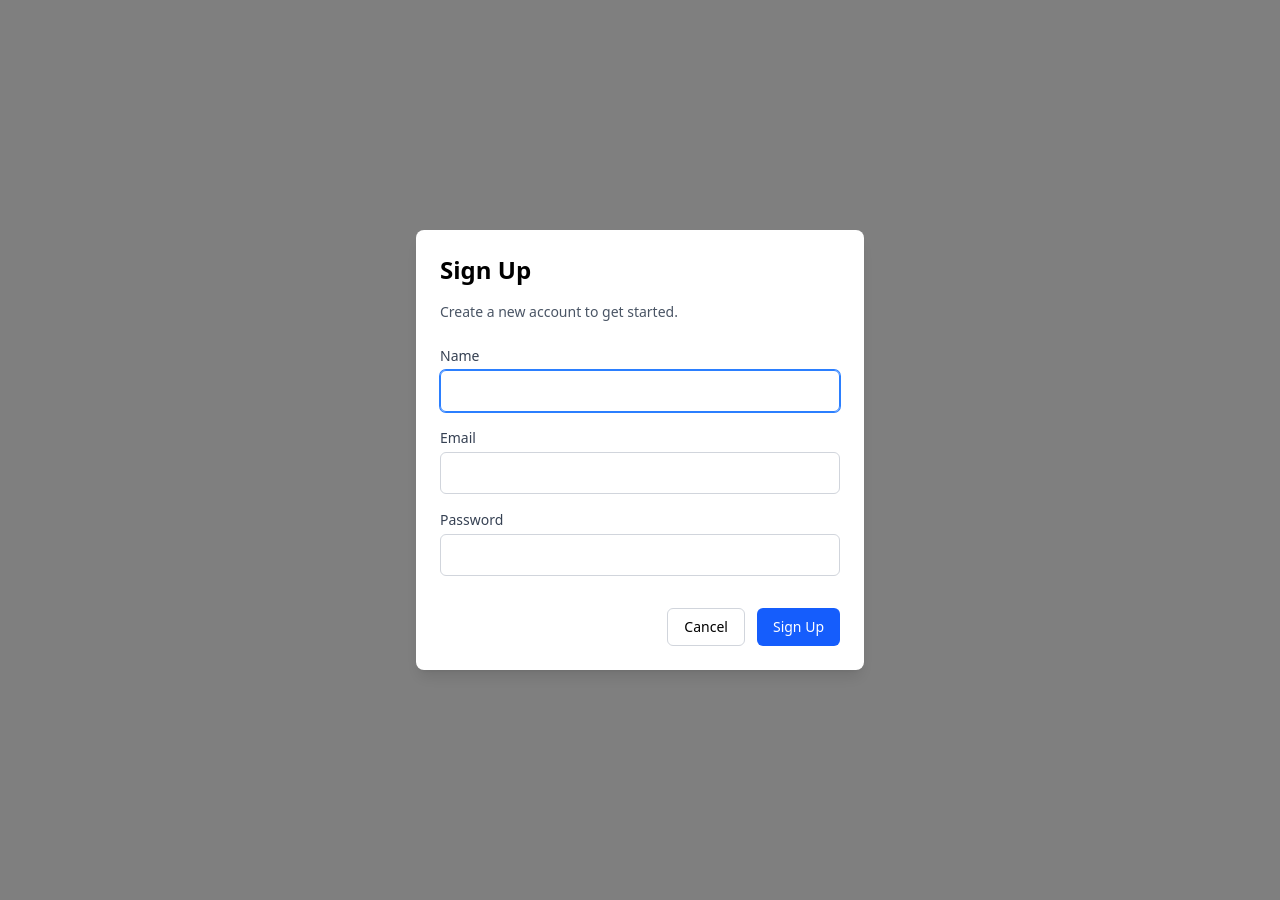
SignupDialog › validates empty name
This screenshot has width=1280, height=900.
Step 1. Click the button "Sign Up" → coordinates (798, 627), box x1=757 y1=608 x2=840 y2=646
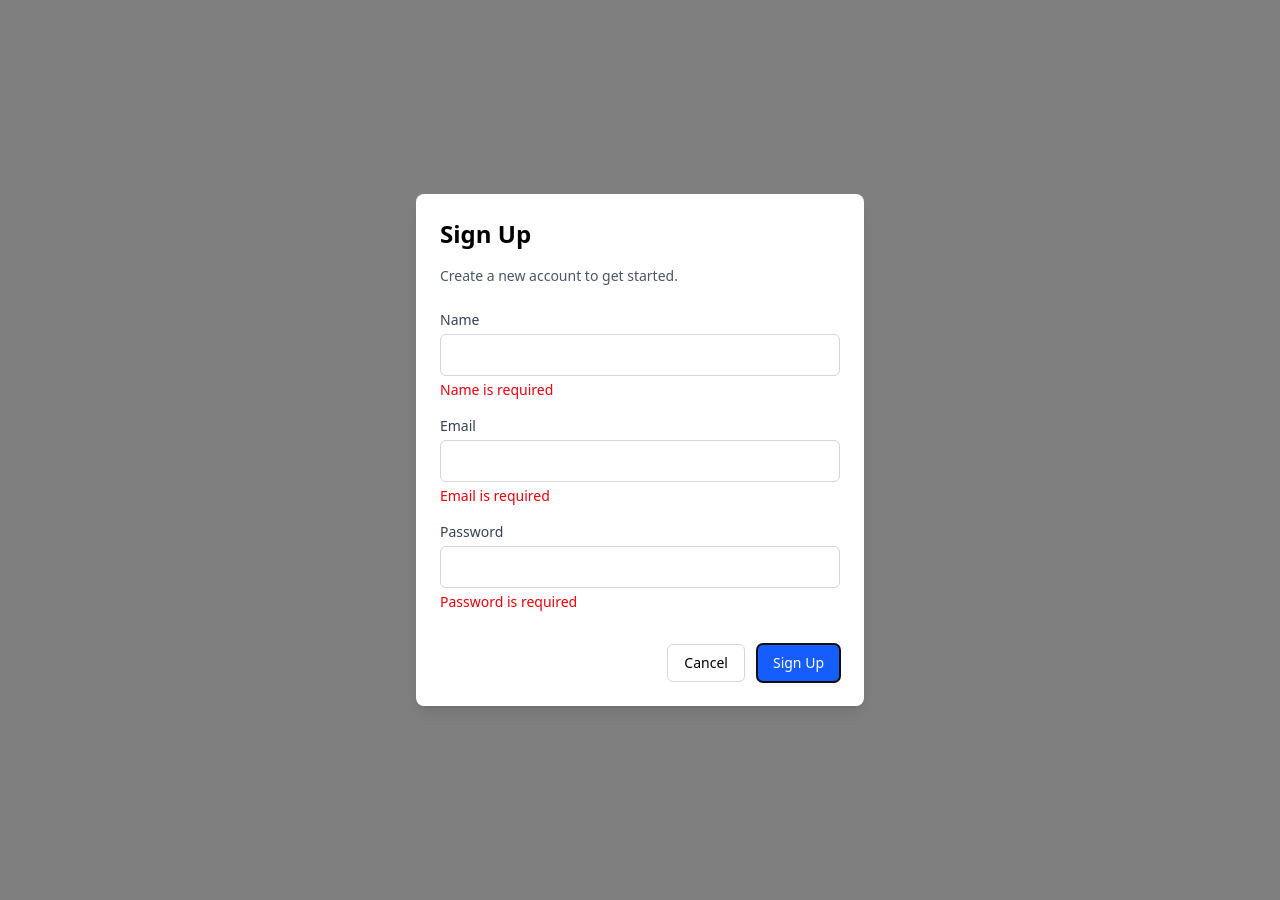
Now the text "Name is required" is shown, box x1=440 y1=380 x2=553 y2=399
